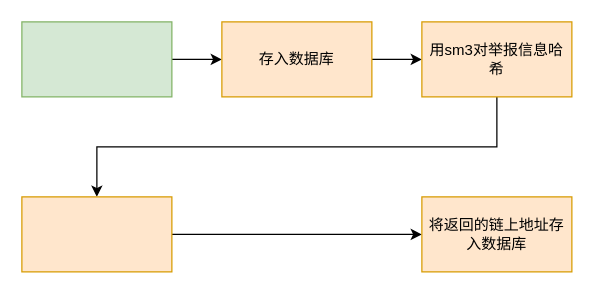
Some shapes in this 594 by 294 pixel diagram are drawn without their labels. The centre of each missing label's shape, as x and y in pixels:
"上链" belongs at (x=96, y=234).
"举报人提交举报" belongs at (x=96, y=59).
